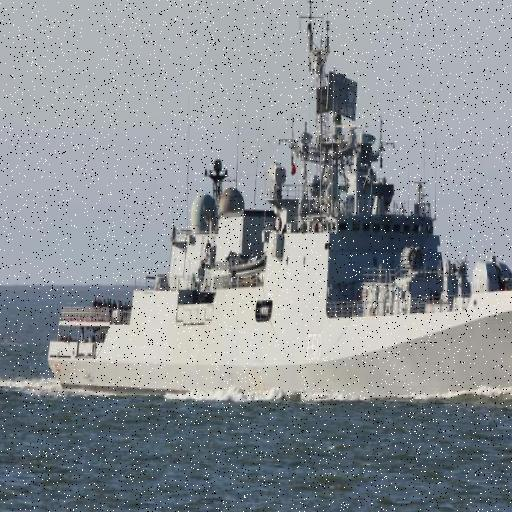Fragata: (44, 8, 512, 408)
